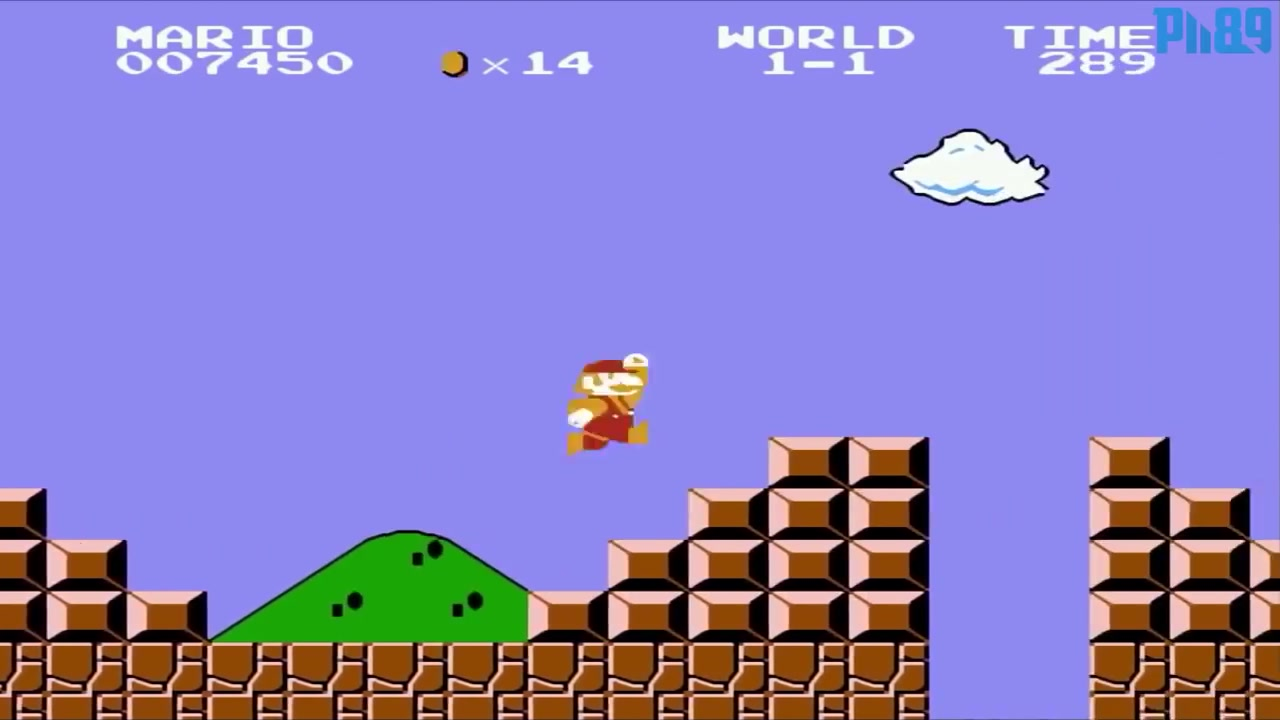mario: (561, 340, 655, 460)
